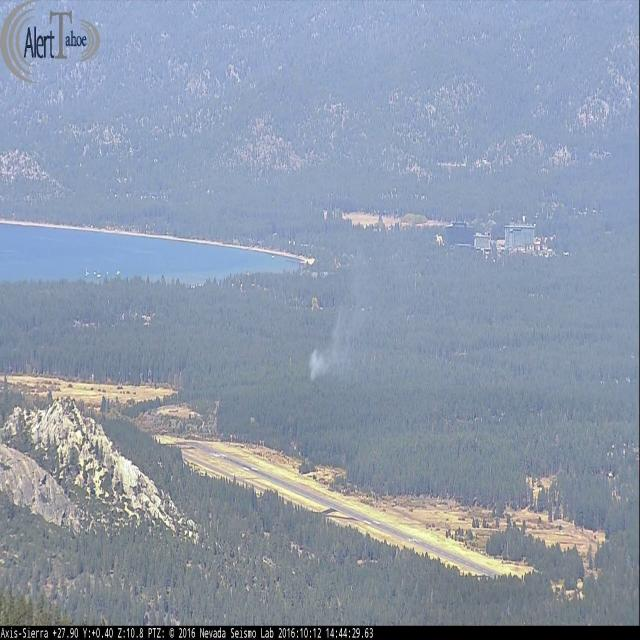smoke: (307, 248, 379, 392)
